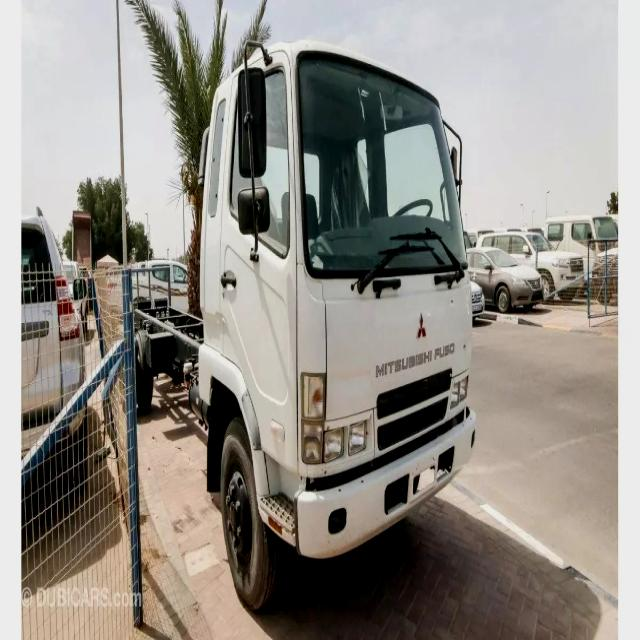truck: (124, 47, 476, 611)
